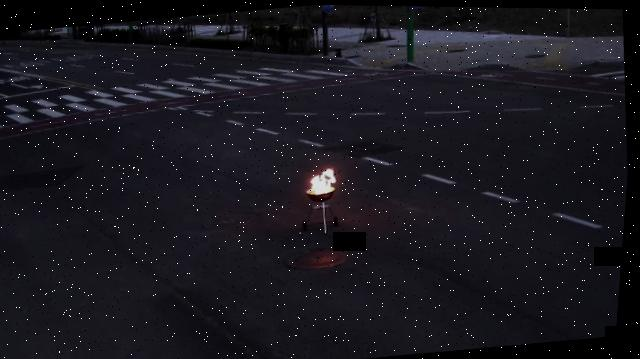fire: (310, 166, 342, 195)
